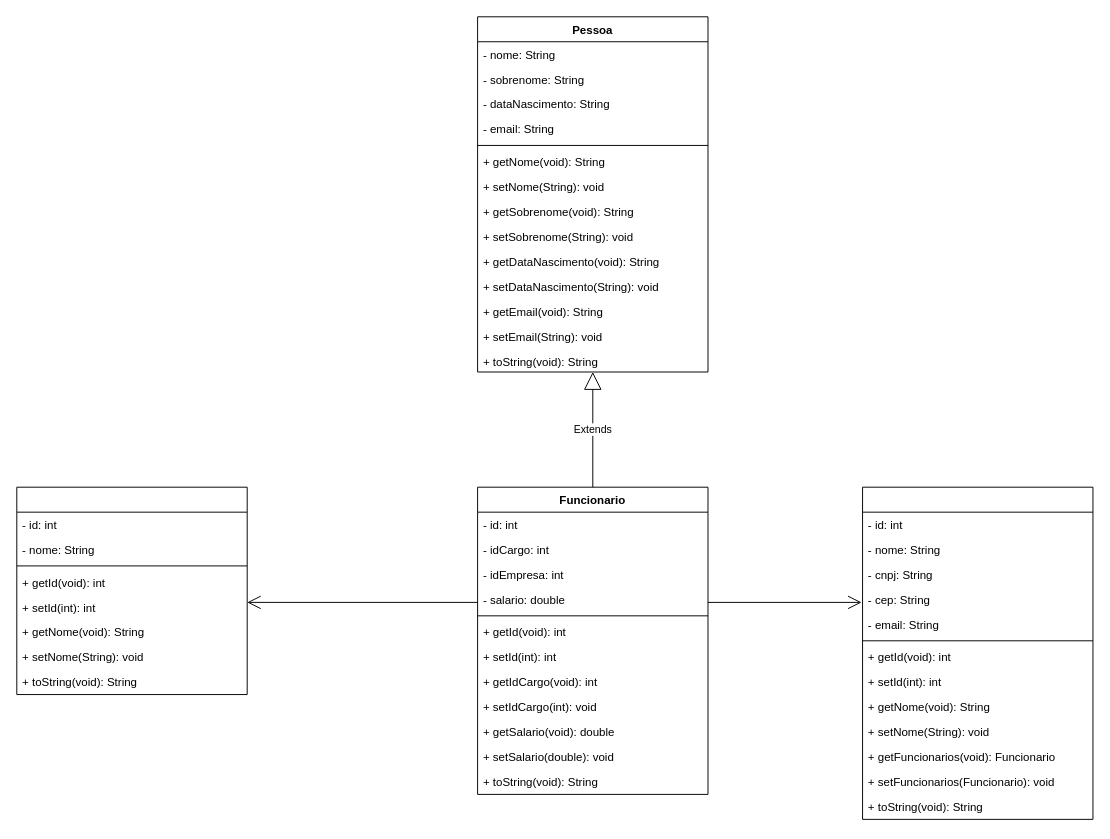
Some shapes in this 1110 by 839 pixel diagram are drawn without their labels. The shapes that lost their labels are listed below. From the top down, each one's box as (x1, y1, x2, y2) in pixels, then its label:
(16, 486, 247, 695): Cargo
(862, 486, 1093, 819): Empresa
